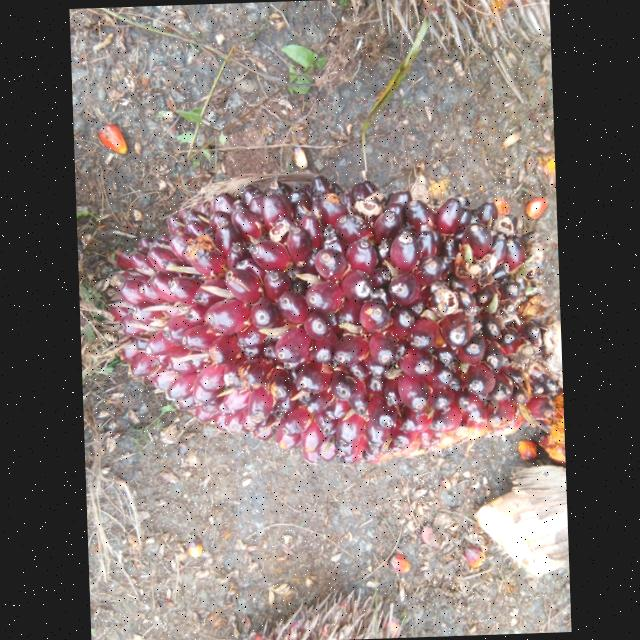Ripe: (111, 174, 562, 465)
